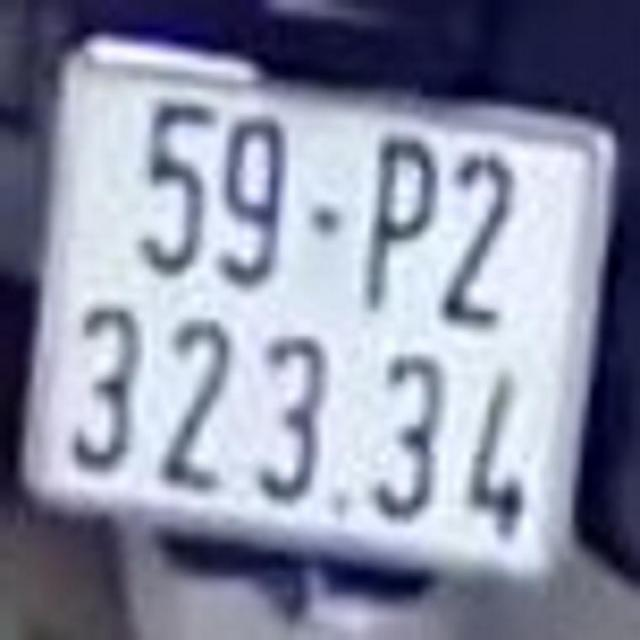2: (443, 143, 520, 330), (160, 308, 234, 494)
3: (68, 292, 144, 482), (250, 326, 329, 508), (370, 341, 443, 524)
4: (460, 355, 536, 552)
5: (130, 91, 210, 280)
9: (218, 110, 293, 292)
P: (359, 127, 441, 320)
